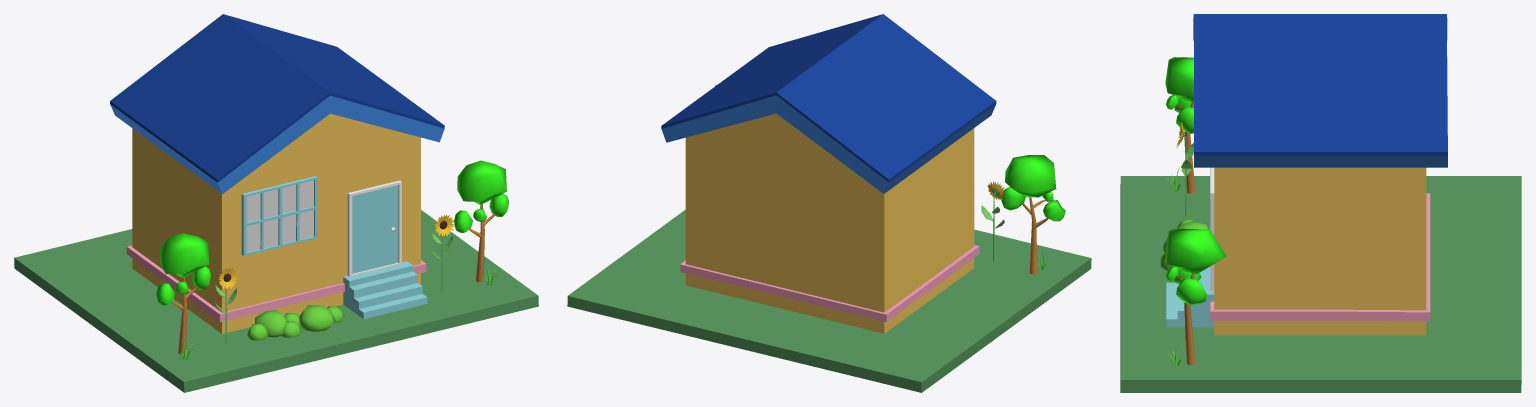
File: house-8.fbx
The picture shows the model from 3 angles, left to right: view 1: azimuth 30°, elevation 25°; view 2: azimuth 150°, elevation 25°; view 3: azimuth 270°, elevation 25°; orthographic projection. The views are drawn at different scales.
Visible parts, largest first — view 1: Cube, Cube.001, Plane, big window 1.001, Cube.005, Cube.002, tree_1.006, tree_1.001, Icosphere.007, Icosphere, Icosphere.005, Icosphere.008; view 2: Cube, Plane, Cube.001, tree_1.001, Icosphere.005; view 3: Plane, Cube.001, Cube, tree_1.006, tree_1.001, Cube.002, Cube.005, Icosphere.005.
Part boxes in pixels (<box>): Cube: <box>126,113,426,333</box>; Cube.001: <box>110,14,444,193</box>; Plane: <box>14,210,538,392</box>; big window 1.001: <box>241,176,317,255</box>; Cube.005: <box>347,180,401,276</box>; Cube.002: <box>343,261,427,319</box>; tree_1.006: <box>454,160,508,282</box>; tree_1.001: <box>156,233,211,354</box>; Icosphere.007: <box>299,305,335,331</box>; Icosphere: <box>255,310,286,337</box>; Icosphere.005: <box>215,267,238,344</box>; Icosphere.008: <box>431,215,454,292</box>; Cube: <box>680,113,979,333</box>; Plane: <box>567,210,1091,392</box>; Cube.001: <box>661,14,996,193</box>; tree_1.001: <box>1001,155,1065,274</box>; Icosphere.005: <box>981,181,1004,261</box>; Plane: <box>1120,176,1521,392</box>; Cube.001: <box>1193,14,1447,167</box>; Cube: <box>1210,167,1430,335</box>; tree_1.006: <box>1165,228,1226,364</box>; tree_1.001: <box>1165,57,1195,193</box>; Cube.002: <box>1166,266,1214,327</box>; Cube.005: <box>1210,167,1214,290</box>; Icosphere.005: <box>1176,121,1193,216</box>.
Bounding box in the file's own units: 2956 × 1863 × 2448.
